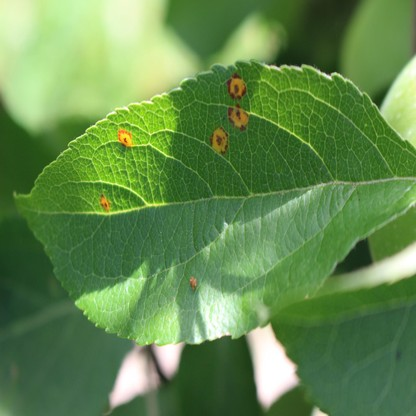rust: (229, 104, 249, 129), (227, 73, 247, 98), (211, 126, 228, 151), (117, 129, 132, 146), (100, 191, 109, 211), (190, 274, 196, 289)
